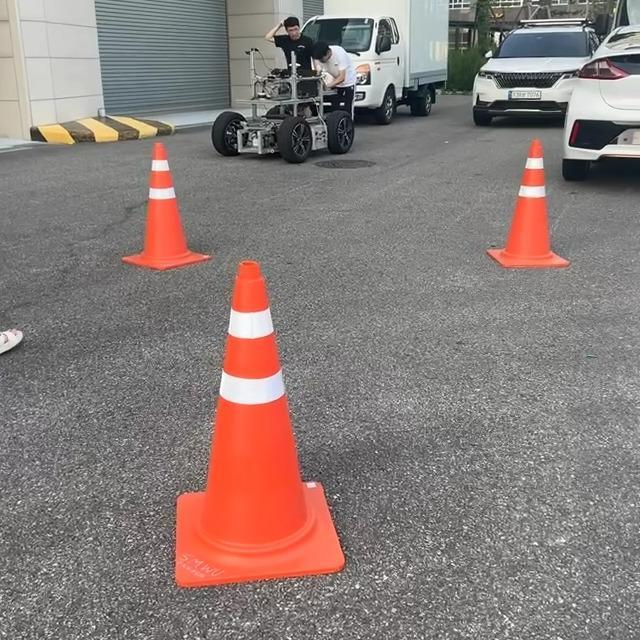fallen_object: (127, 223, 389, 590), (440, 122, 617, 331), (82, 145, 224, 282)
